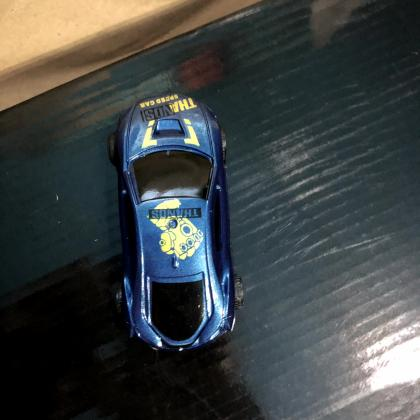Car: (106, 89, 247, 355)
